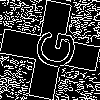G: (25, 25, 78, 72)
